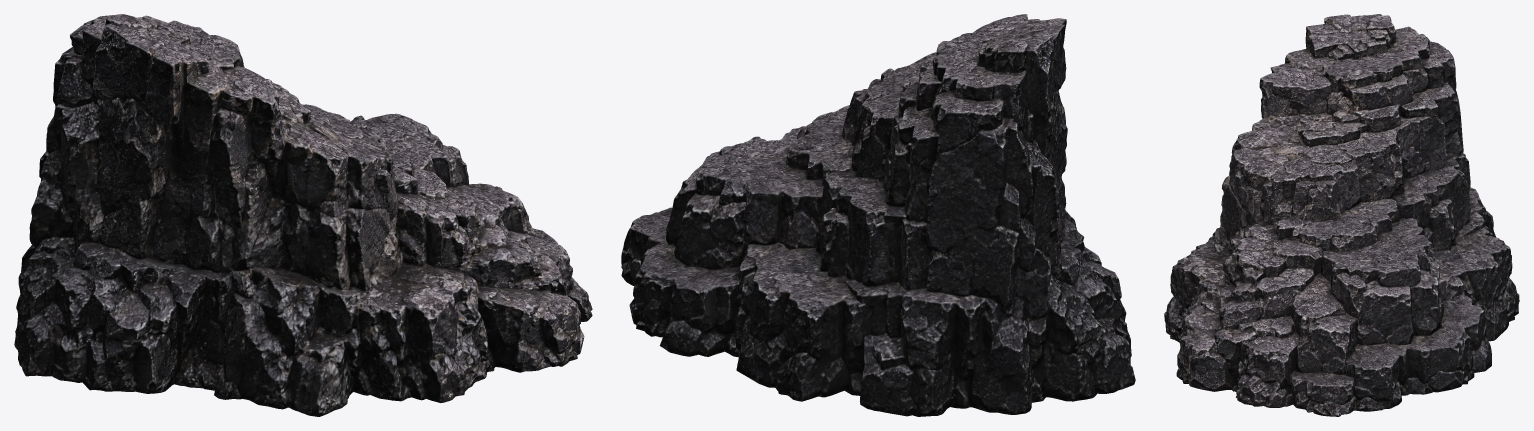
The model's file is selected-work-rock.glb.
3 views of the same model, side by side, from view 1: azimuth 30°, elevation 25°; view 2: azimuth 150°, elevation 25°; view 3: azimuth 270°, elevation 25° (orthographic). The views are drawn at different scales.
Visible parts, largest first — view 1: selected-work-rock; view 2: selected-work-rock; view 3: selected-work-rock.
Part boxes in pixels (<box>): selected-work-rock: <box>14,14,592,416</box>; selected-work-rock: <box>621,14,1135,416</box>; selected-work-rock: <box>1164,14,1519,416</box>.
Size of the model in its own units: 0.9827 by 0.5849 by 0.7651.
1 material, 1 textured.
